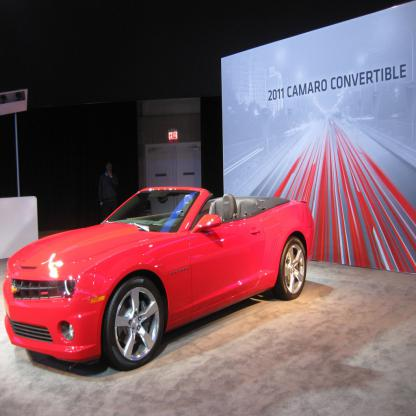Car: (3, 185, 314, 369)
